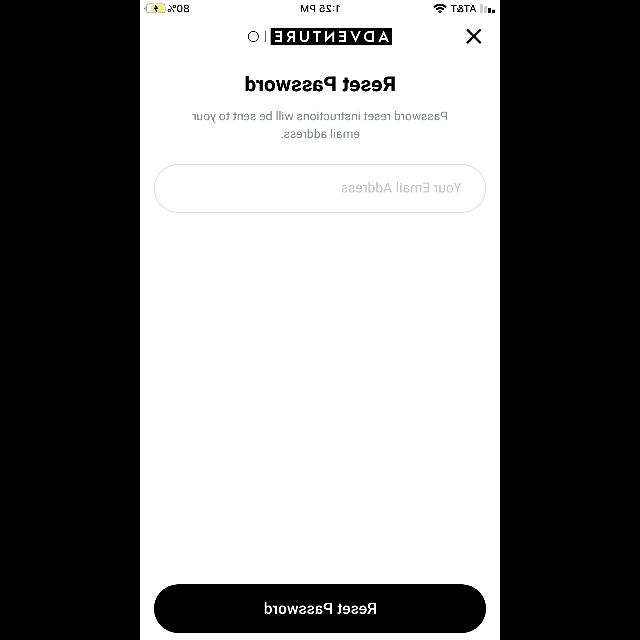icon: (466, 30, 482, 44)
image: (248, 28, 392, 44)
input: (154, 164, 486, 213)
text: (192, 112, 448, 138), (246, 76, 394, 92), (341, 182, 461, 194)
textbutton: (154, 584, 486, 634)
uppertaskbar: (140, 0, 500, 14)
